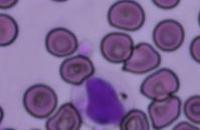M: (71, 72, 133, 129)
